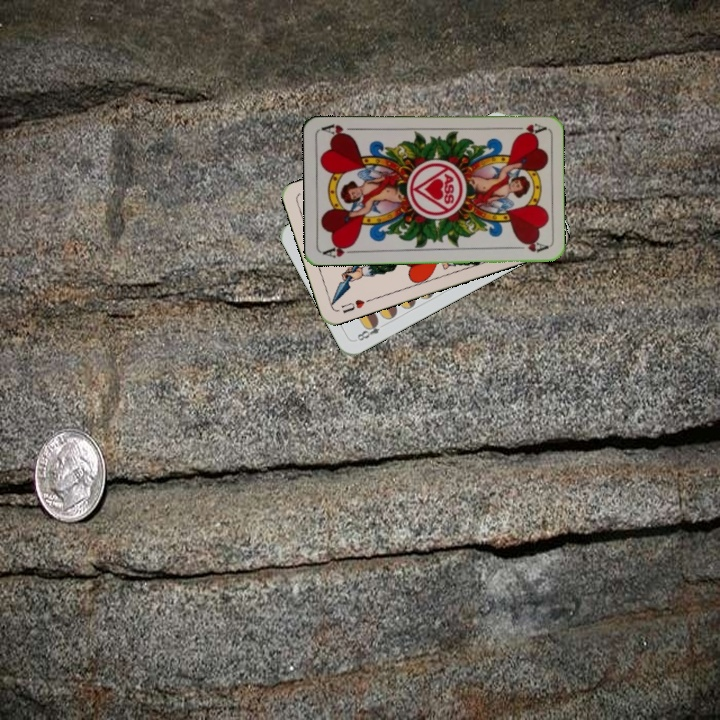E8: (351, 317, 389, 344)
HA: (320, 240, 360, 260), (507, 119, 547, 137)
HU: (337, 295, 374, 316)
